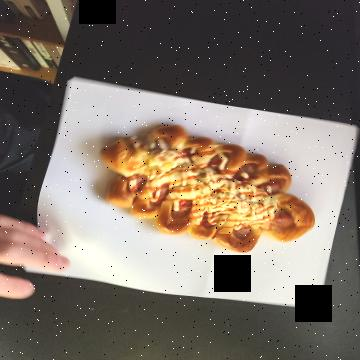pizza_bread: (120, 41, 248, 264)
